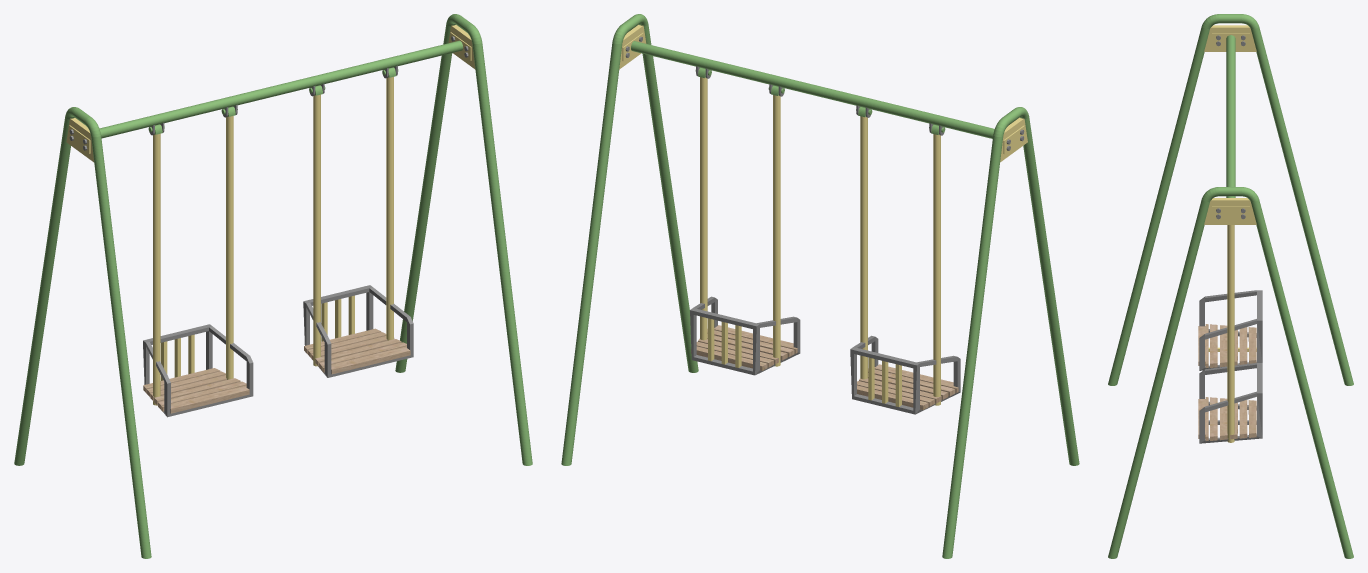
The model's file is sweethome3d-blendswap-cc-0-child-swing.glb.
The picture shows the model from 3 angles, left to right: view 1: azimuth 30°, elevation 25°; view 2: azimuth 150°, elevation 25°; view 3: azimuth 270°, elevation 25°; orthographic projection. The views are drawn at different scales.
Parts seen in each view (by area): view 1: ChildSwing, Chair; view 2: ChildSwing, Chair; view 3: ChildSwing, Chair.
Boxes of the visible parts, <box> form: ChildSwing: <box>14,14,532,558</box>; Chair: <box>143,328,410,413</box>; ChildSwing: <box>561,14,1079,558</box>; Chair: <box>691,325,958,409</box>; ChildSwing: <box>1108,14,1353,558</box>; Chair: <box>1198,324,1256,440</box>.
Size of the model in its own units: 213 by 207 by 125.
Materials: 4 (1 with a texture image).
